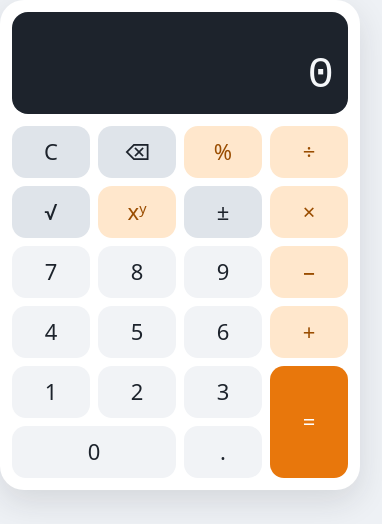
Calculator › shows the message for invalid_number in the display
The width and height of the screenshot is (382, 524).
Click the button "1" at point(51, 392), box [12,366,90,418]
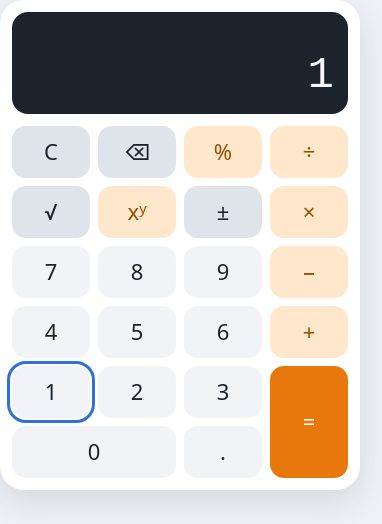
Click the button named "Divide" at point(309, 152), box [270,126,348,178]
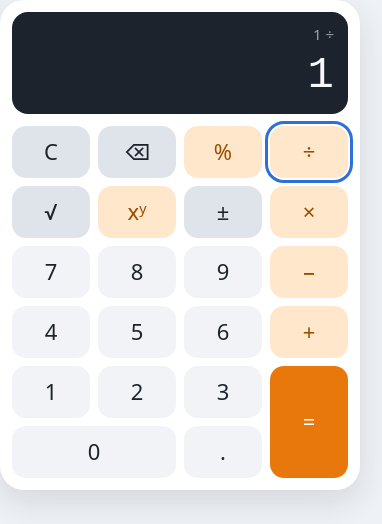
Click the button "2" at point(137, 392), box [98,366,176,418]
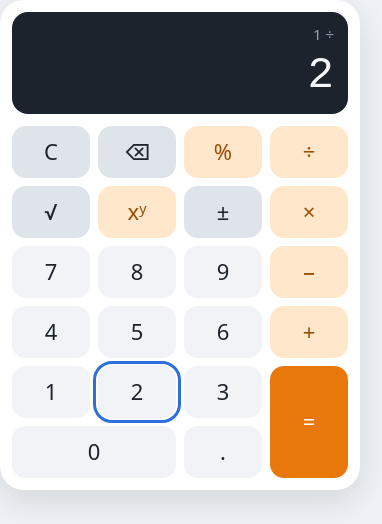
Click the button named "Equals" at point(309, 422), box [270,366,348,478]
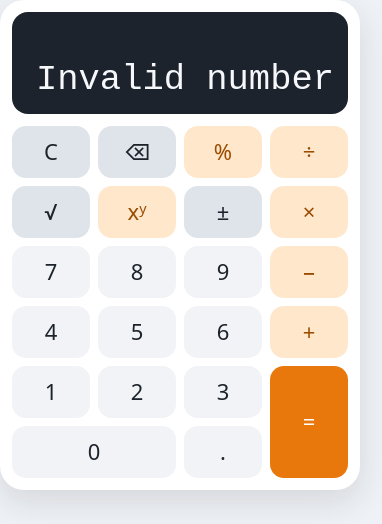
Result: the text "Invalid number" is shown at [26,49,334,102]
